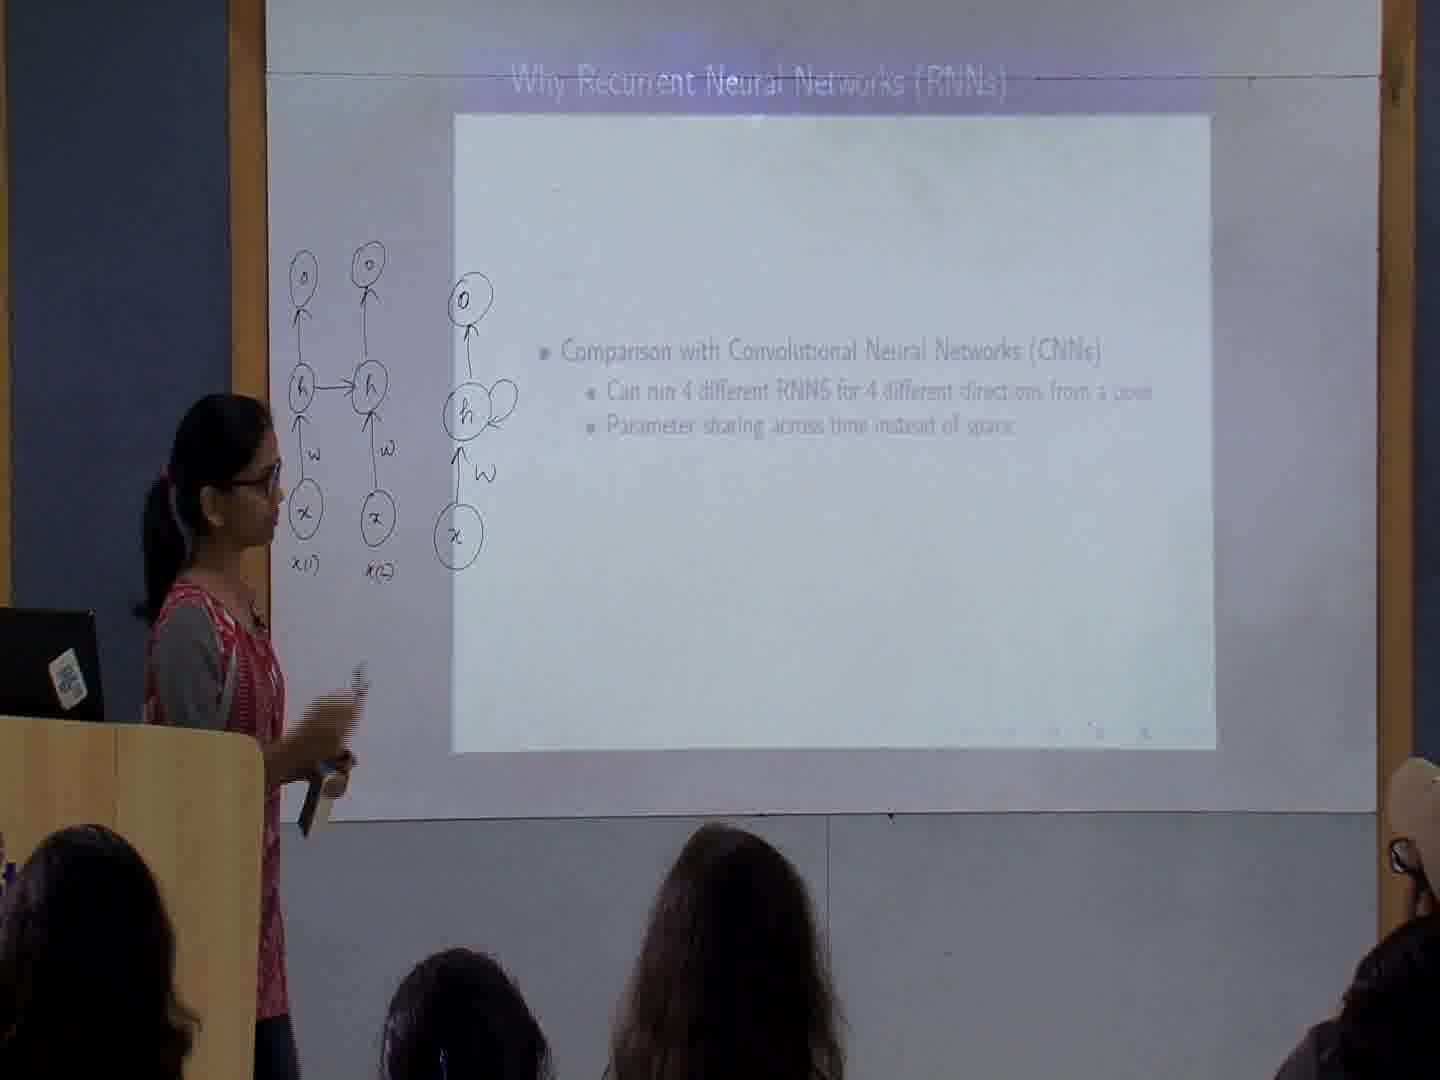slide: (450, 54, 1219, 750)
